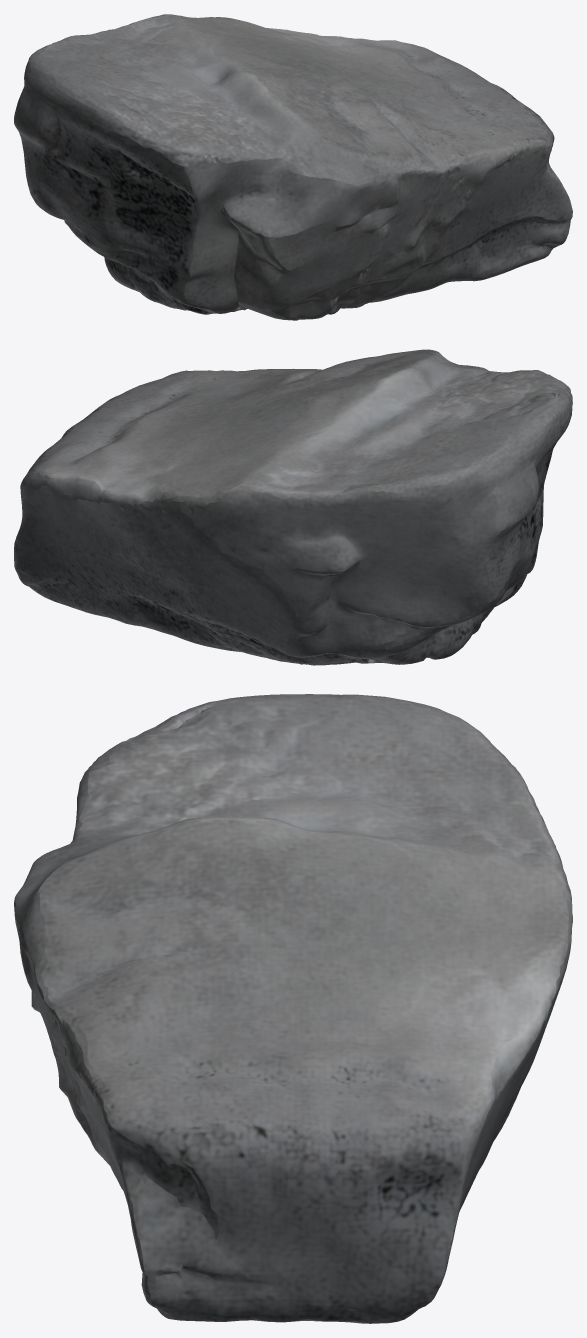
3 renders of one model, top to bottom at view 1: azimuth 30°, elevation 25°; view 2: azimuth 150°, elevation 25°; view 3: azimuth 270°, elevation 25°, orthographic. The views are drawn at different scales.
Parts seen in each view (by area): view 1: world; view 2: world; view 3: world.
Part boxes in pixels (<box>): world: <box>14,14,572,320</box>; world: <box>14,349,572,665</box>; world: <box>14,694,572,1323</box>.
Bounding box in the file's own units: 1.2 × 0.6003 × 0.8912.
1 material, 1 textured.
